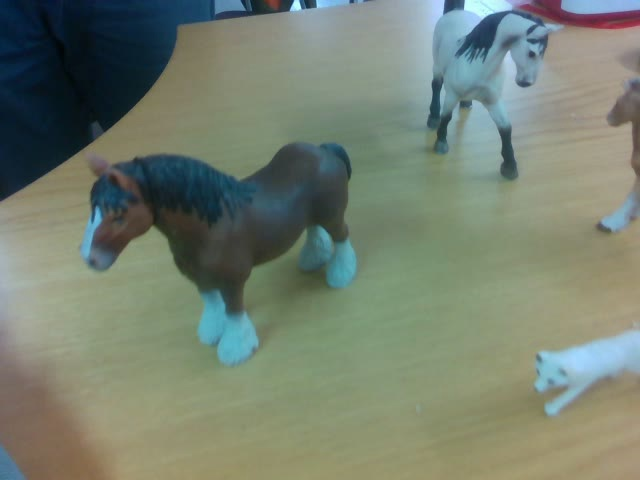toy: (82, 142, 356, 371), (426, 1, 566, 181)
